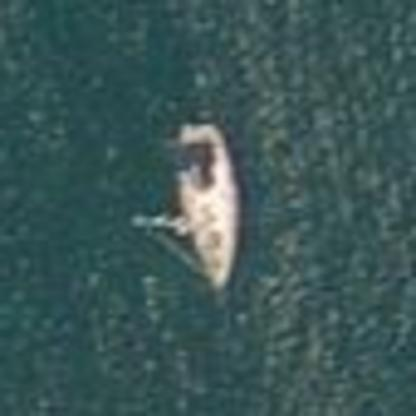ship: (118, 120, 268, 297)
